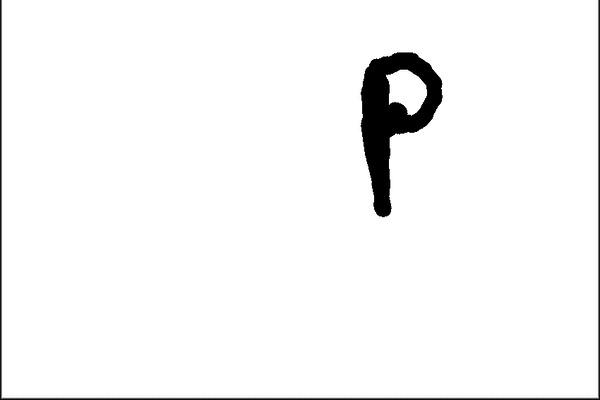P: (338, 45, 464, 230)
